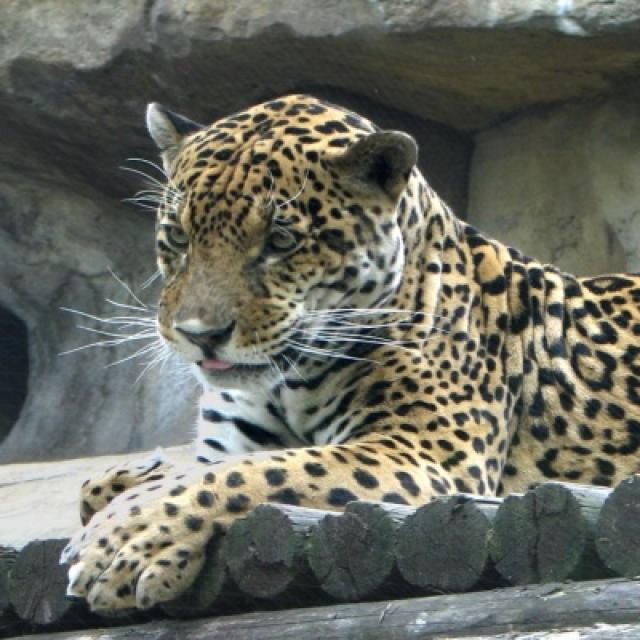Jaguar: (64, 94, 638, 616)
